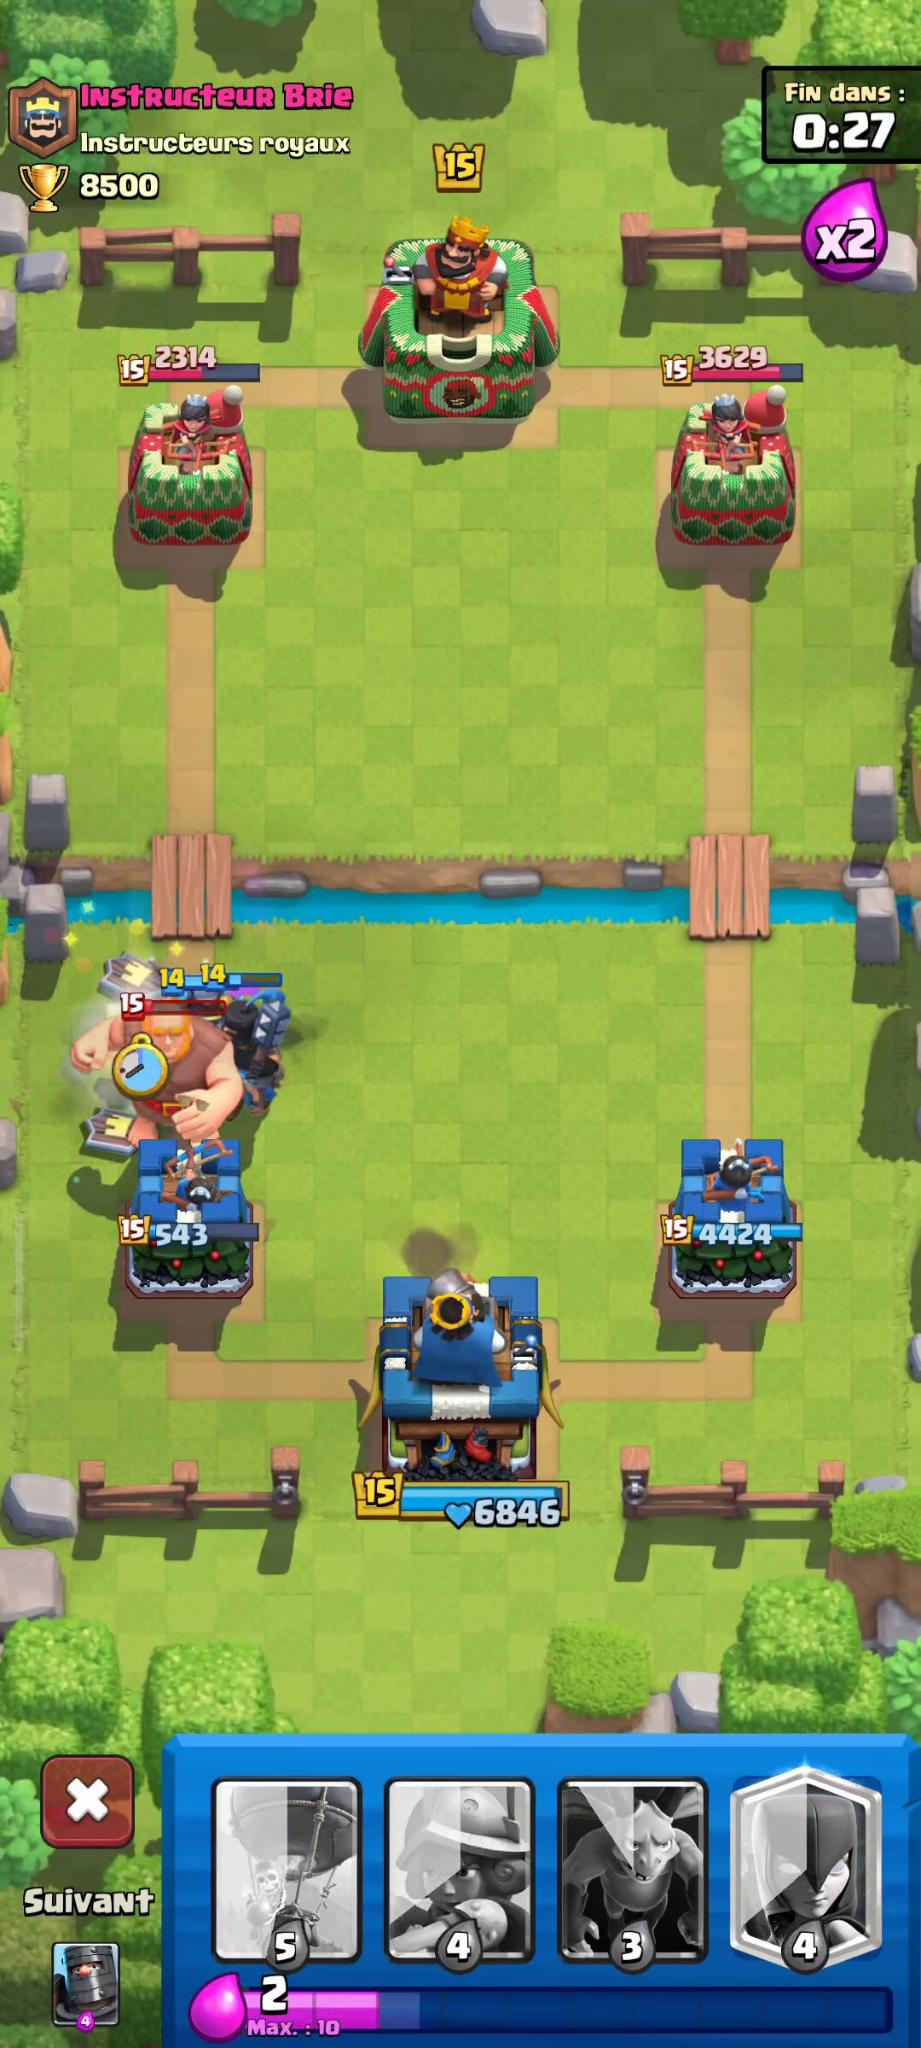geant: (73, 986, 243, 1155)
mini_PEKKA: (170, 961, 239, 1032)
